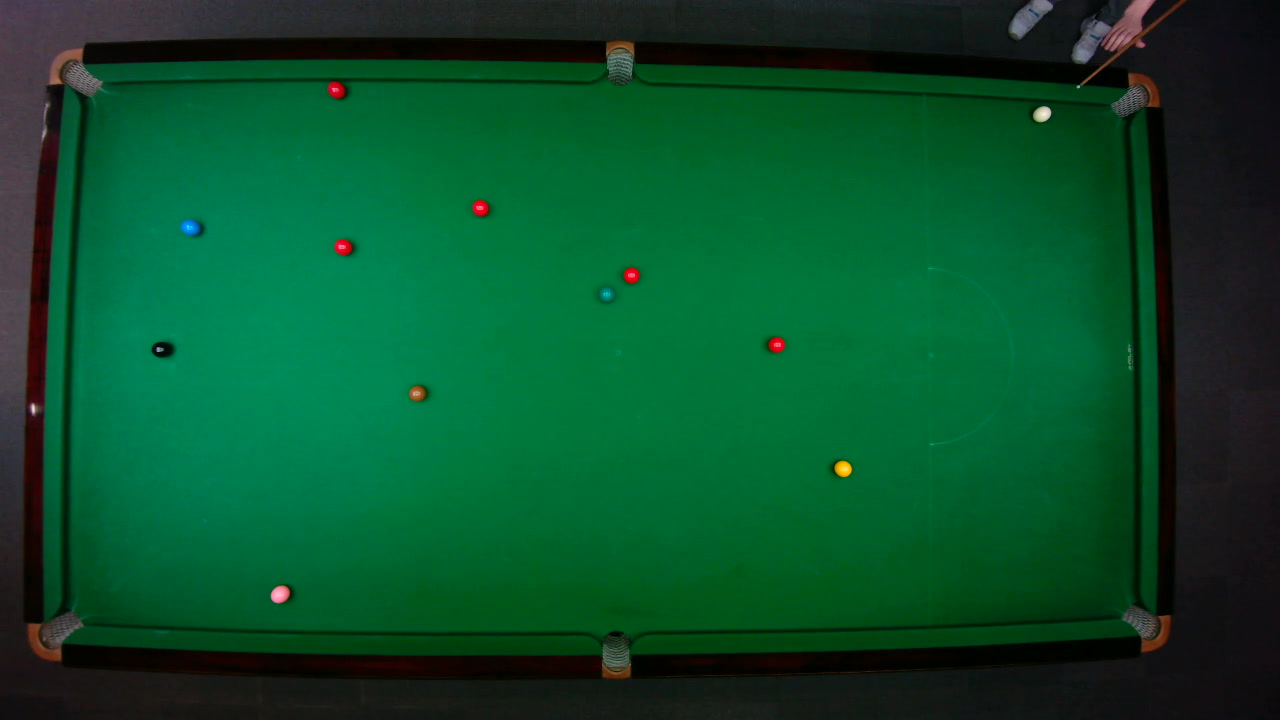bag: (25, 609, 84, 661), (46, 47, 102, 97), (1119, 603, 1171, 651), (1109, 72, 1160, 118), (601, 629, 630, 680), (605, 38, 633, 86)
black: (149, 340, 172, 358)
blue: (179, 218, 201, 236)
brown: (407, 384, 426, 401)
cue: (1074, 0, 1185, 90)
green: (597, 285, 615, 302)
pink: (268, 583, 291, 604)
red: (332, 237, 353, 256), (326, 80, 346, 99), (766, 335, 786, 353), (471, 198, 489, 217), (622, 266, 640, 284)
white: (1031, 104, 1052, 122)
yellow: (832, 458, 852, 477)
zone: (927, 266, 1013, 445)
